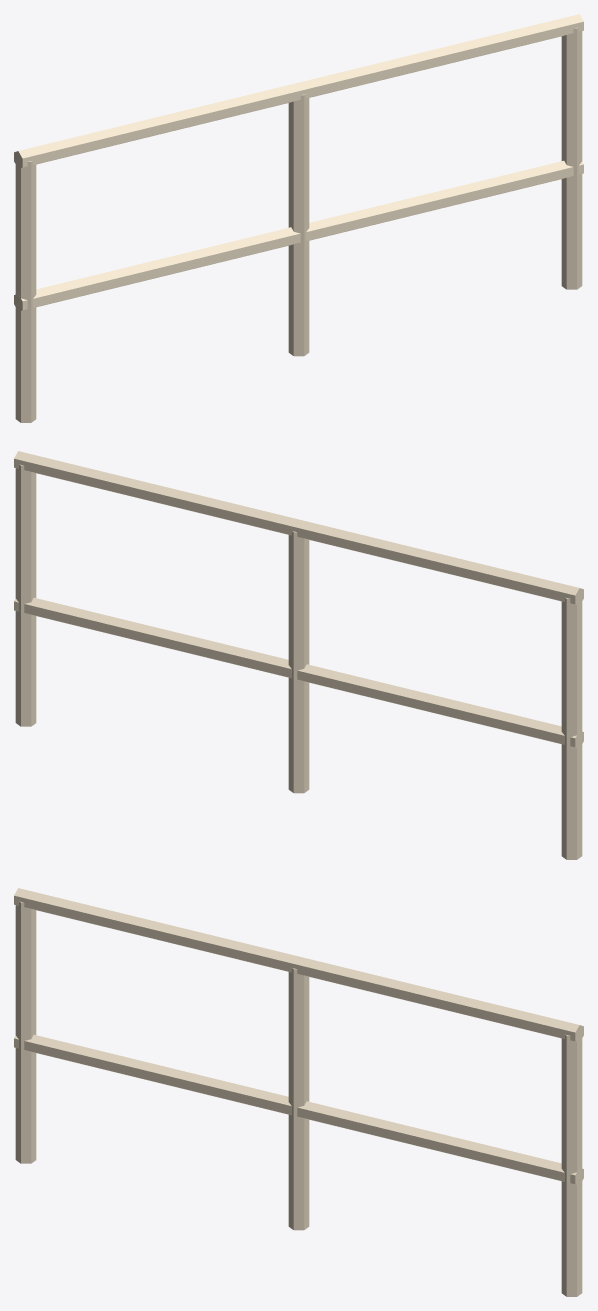
3 views of the same model, one above another, from view 1: azimuth 30°, elevation 25°; view 2: azimuth 150°, elevation 25°; view 3: azimuth 330°, elevation 25° (orthographic).
Visible parts, largest first — view 1: Rail.001, Rail, Stanchion, Stanchion.001, Stanchion.002; view 2: Rail.001, Rail, Stanchion, Stanchion.001, Stanchion.002; view 3: Rail.001, Rail, Stanchion.002, Stanchion, Stanchion.001.
Part boxes in pixels (box(x1,y1,x2,y2)): Rail.001: box(14, 14, 583, 168); Rail: box(14, 160, 583, 311); Stanchion: box(15, 160, 36, 422); Stanchion.001: box(288, 94, 309, 356); Stanchion.002: box(561, 27, 582, 289); Rail.001: box(14, 451, 583, 605); Rail: box(14, 597, 583, 748); Stanchion: box(561, 597, 582, 859); Stanchion.001: box(288, 531, 309, 793); Stanchion.002: box(15, 464, 36, 726); Rail.001: box(14, 888, 583, 1042); Rail: box(14, 1034, 583, 1185); Stanchion.002: box(561, 1034, 582, 1296); Stanchion: box(15, 901, 36, 1163); Stanchion.001: box(288, 968, 309, 1230).
Bounding box in the file's own units: 1.44 × 0.662 × 0.046.
Materials: 1 (1 with a texture image).
